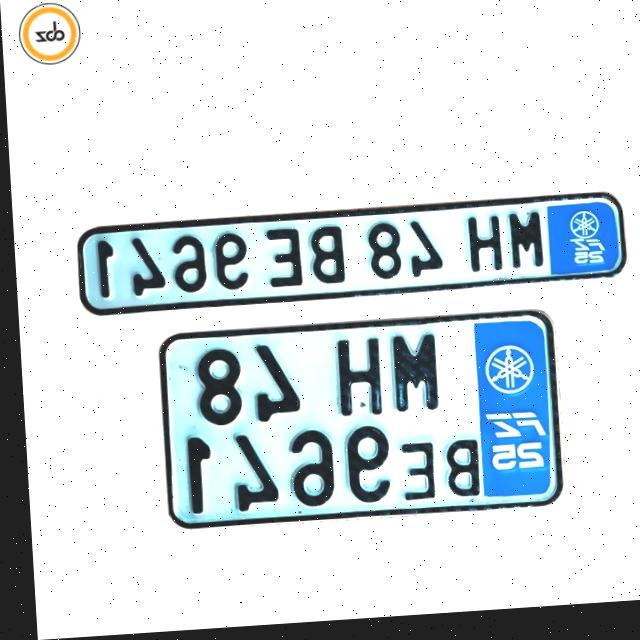plate: (152, 317, 556, 535), (71, 195, 628, 320)
